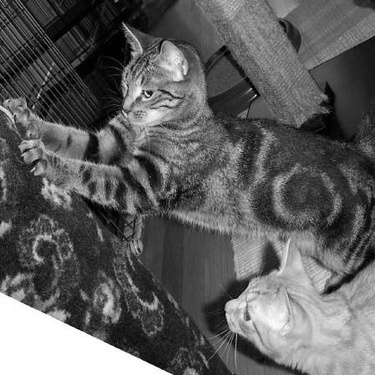cat: (5, 17, 367, 283), (225, 240, 369, 369)
